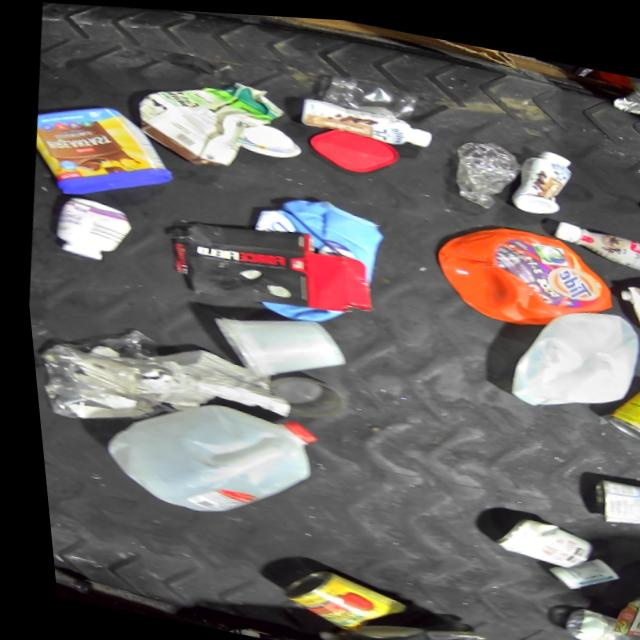can: (267, 559, 402, 638), (479, 506, 588, 566), (578, 469, 640, 528), (592, 367, 640, 441)
milk_jug: (86, 381, 318, 533), (493, 288, 640, 421), (604, 268, 640, 339)
non_white_jug: (419, 207, 618, 338), (235, 182, 392, 333), (122, 60, 291, 180), (22, 91, 181, 214)
plastic_bottle: (442, 128, 523, 208), (42, 550, 85, 595)
